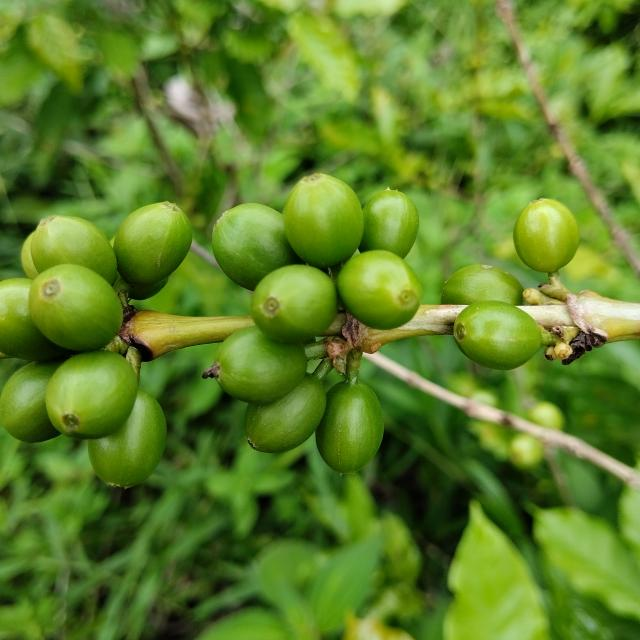green: (45, 350, 137, 440), (28, 264, 122, 352), (203, 326, 308, 404), (212, 203, 302, 290), (87, 390, 166, 489), (283, 173, 364, 268), (251, 264, 338, 343), (20, 215, 116, 285), (337, 250, 422, 329), (113, 201, 192, 284), (315, 381, 384, 474), (245, 374, 326, 453), (454, 301, 542, 370), (0, 278, 64, 361), (0, 360, 63, 443), (514, 198, 580, 273), (359, 188, 420, 258), (441, 264, 524, 306), (20, 231, 38, 280)
